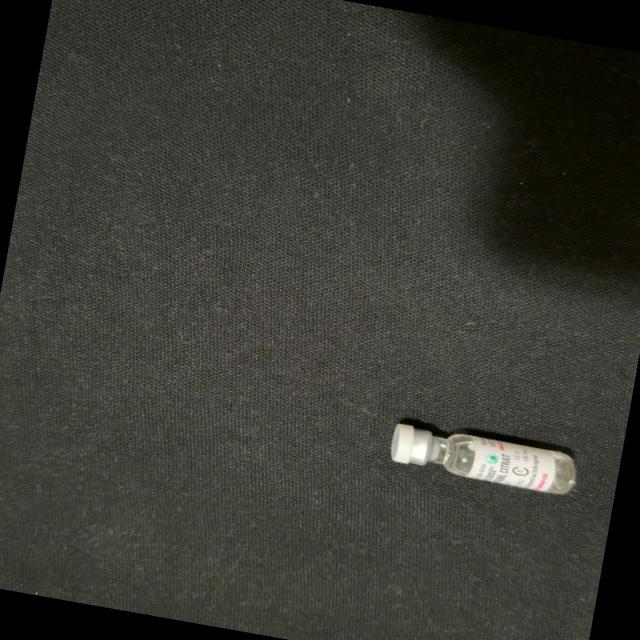fentanl_citrat: (390, 421, 577, 495)
